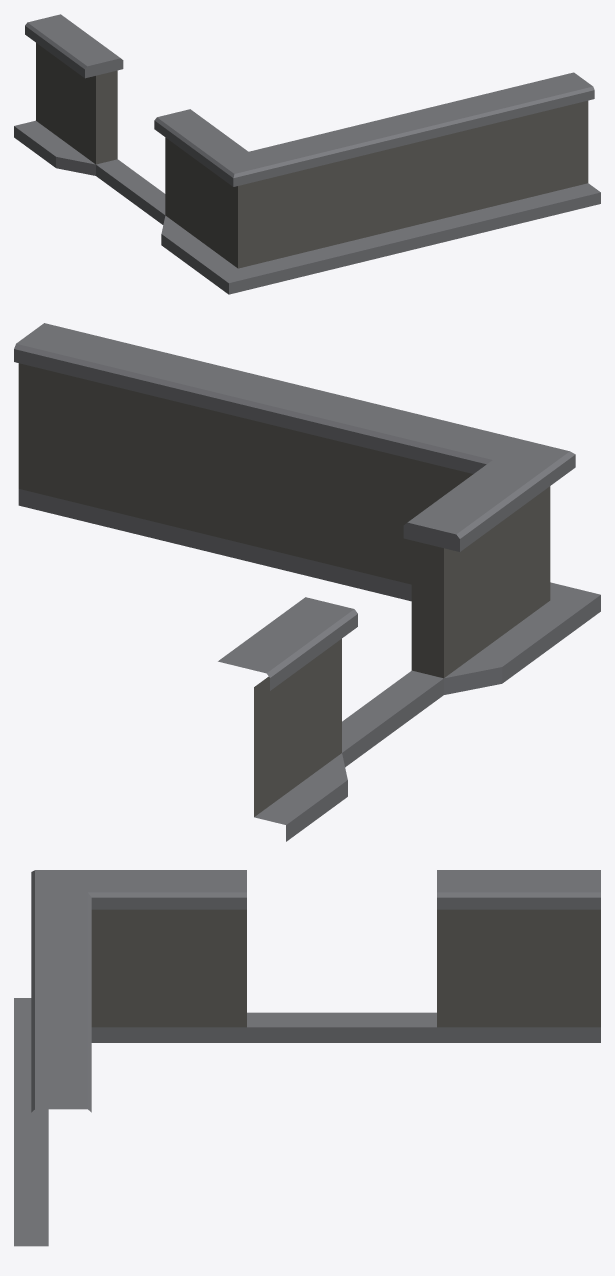
Rendered from SM_Roof_Corner_Out_Ladder_L.gltf.
3 views of the same model, one above another, from view 1: azimuth 30°, elevation 25°; view 2: azimuth 150°, elevation 25°; view 3: azimuth 270°, elevation 25° (orthographic). The views are drawn at different scales.
Visible parts, largest first — view 1: SM_Roof_Corner_Out_Ladder_L; view 2: SM_Roof_Corner_Out_Ladder_L; view 3: SM_Roof_Corner_Out_Ladder_L.
Part boxes in pixels (x1,y1,x2,y2): SM_Roof_Corner_Out_Ladder_L: (14, 14, 600, 294); SM_Roof_Corner_Out_Ladder_L: (14, 323, 600, 841); SM_Roof_Corner_Out_Ladder_L: (14, 870, 600, 1246).
Size of the model in its own units: 3.4 by 0.9755 by 3.4.
1 material, 1 textured.
